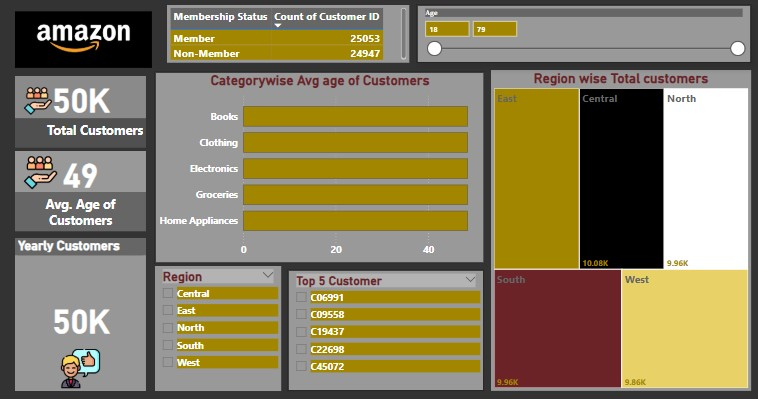

The page's visual inventory and layout, read from the dashboard file:
{"tool":"powerbi","page":{"name":"Customers","canvas":[1280,720],"ordinal":1},"visuals":[{"type":"image","box":[18.4,0,239.5,133.2],"z":0},{"type":"card","fields":{"Values":["customer_demographics_data.Total Customers"]},"box":[28.6,132.7,220.1,70.6],"z":1000},{"type":"textbox","box":[28.6,203.3,220.1,50.4],"z":2000},{"type":"slicer","fields":{"Values":["customer_demographics_data.Customer ID"]},"box":[263.6,459.2,552.8,222.5],"z":3000},{"type":"barChart","title":"Categorywise Avg age of Customers","fields":{"Category":["retail_sales_transactions_data.Product Category"],"Y":["customer_demographics_data.Avg Age of customers"]},"box":[263.7,126,552.7,320.8],"z":4000},{"type":"treemap","title":"Region wise Total customers","fields":{"Group":["customer_demographics_data.Region"],"Values":["CountNonNull(customer_demographics_data.Customer ID)"]},"box":[826.3,123.3,438,328.8],"z":5000},{"type":"card","fields":{"Values":["customer_demographics_data.Avg Age of customers"]},"box":[28.3,262.2,219.7,65.2],"z":6000},{"type":"textbox","box":[28.3,327.4,219.7,65.2],"z":7000},{"type":"image","box":[23.5,262,95.7,65.5],"z":8000},{"type":"image","box":[28.6,146.1,77.3,57.1],"z":9000},{"type":"tableEx","fields":{"Values":["customer_demographics_data.Membership Status","CountNonNull(customer_demographics_data.Customer ID)"]},"box":[826.3,583.9,438,97.8],"z":10000},{"type":"slicer","fields":{"Values":["customer_demographics_data.Region"]},"box":[816.4,18.4,447.9,89.3],"z":11000},{"type":"kpi","title":"Yearly Customers","fields":{"Indicator":["customer_demographics_data.Total Customers"],"TrendLine":["retail_sales_transactions_data.Date.Variation.Date Hierarchy.Year"]},"box":[28.3,406.8,219.7,275],"z":12000},{"type":"image","box":[0,470.3,144.5,62.2],"z":13000},{"type":"slicer","fields":{"Values":["customer_demographics_data.Age"]},"box":[826.3,470.6,453.5,100.6],"z":14000},{"type":"slicer","fields":{"Values":["customer_demographics_data.Income Level"]},"box":[263.6,18.4,528.7,89.3],"z":15000}]}

Visuals, with their boxes on the page's 1280x720 design canvas (x1, y1, x2, y2). These are canvas units, not pixel positions in the 758x399 screenshot, which may show the page scaled, cropped or inside an application window:
image: [x1=18, y1=0, x2=258, y2=133]
card - customer_demographics_data.Total Customers: [x1=29, y1=133, x2=249, y2=203]
textbox: [x1=29, y1=203, x2=249, y2=254]
slicer - customer_demographics_data.Customer ID: [x1=264, y1=459, x2=816, y2=682]
"Categorywise Avg age of Customers" barChart: [x1=264, y1=126, x2=816, y2=447]
"Region wise Total customers" treemap: [x1=826, y1=123, x2=1264, y2=452]
card - customer_demographics_data.Avg Age of customers: [x1=28, y1=262, x2=248, y2=327]
textbox: [x1=28, y1=327, x2=248, y2=393]
image: [x1=24, y1=262, x2=119, y2=328]
image: [x1=29, y1=146, x2=106, y2=203]
tableEx - customer_demographics_data.Membership Status x CountNonNull(customer_demographics_data.Customer ID): [x1=826, y1=584, x2=1264, y2=682]
slicer - customer_demographics_data.Region: [x1=816, y1=18, x2=1264, y2=108]
"Yearly Customers" kpi: [x1=28, y1=407, x2=248, y2=682]
image: [x1=0, y1=470, x2=144, y2=532]
slicer - customer_demographics_data.Age: [x1=826, y1=471, x2=1280, y2=571]
slicer - customer_demographics_data.Income Level: [x1=264, y1=18, x2=792, y2=108]
